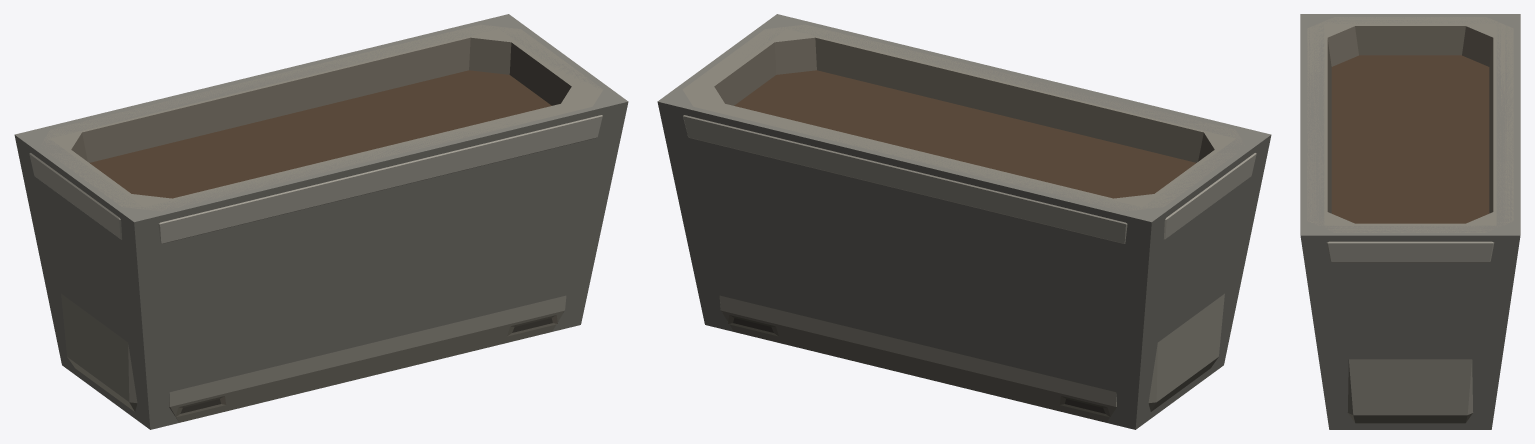
File: sg-planter-box.glb
3 renders of one model, left to right at view 1: azimuth 30°, elevation 25°; view 2: azimuth 150°, elevation 25°; view 3: azimuth 270°, elevation 25°, orthographic. The views are drawn at different scales.
Visible parts, largest first — view 1: lod1_shell, lod0_shell, lod1_soil; view 2: lod1_shell, lod0_shell, lod1_soil; view 3: lod1_shell, lod0_shell, lod1_soil.
Boxes of the visible parts, x1,y1,x2,y2 form: lod1_shell: (14, 14, 628, 429); lod0_shell: (29, 24, 603, 422); lod1_soil: (90, 70, 551, 198); lod1_shell: (657, 14, 1271, 429); lod0_shell: (682, 24, 1256, 422); lod1_soil: (734, 70, 1195, 198); lod1_shell: (1300, 14, 1520, 429); lod0_shell: (1307, 17, 1513, 423); lod1_soil: (1331, 55, 1489, 223).
Size of the model in its own units: 1.55 by 0.68 by 0.65.
